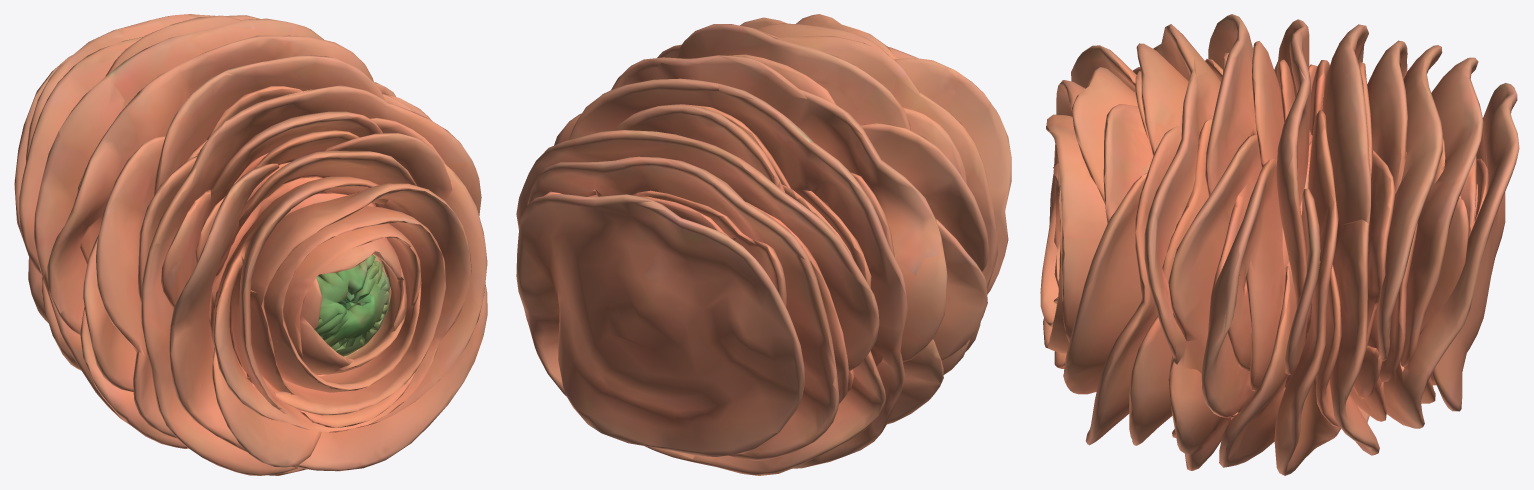
File: peach_ranunculus.glb
The picture shows the model from 3 angles, left to right: view 1: azimuth 30°, elevation 25°; view 2: azimuth 150°, elevation 25°; view 3: azimuth 270°, elevation 25°; orthographic projection. The views are drawn at different scales.
Parts seen in each view (by area): view 1: model; view 2: model; view 3: model.
Part boxes in pixels (left/top/right/bottom): model: left=14, top=14, right=487, bottom=475; model: left=516, top=14, right=1011, bottom=475; model: left=1040, top=14, right=1519, bottom=475.
Bounding box in the file's own units: 1.85 × 1.82 × 1.89.
Materials: 1 (1 with a texture image).
